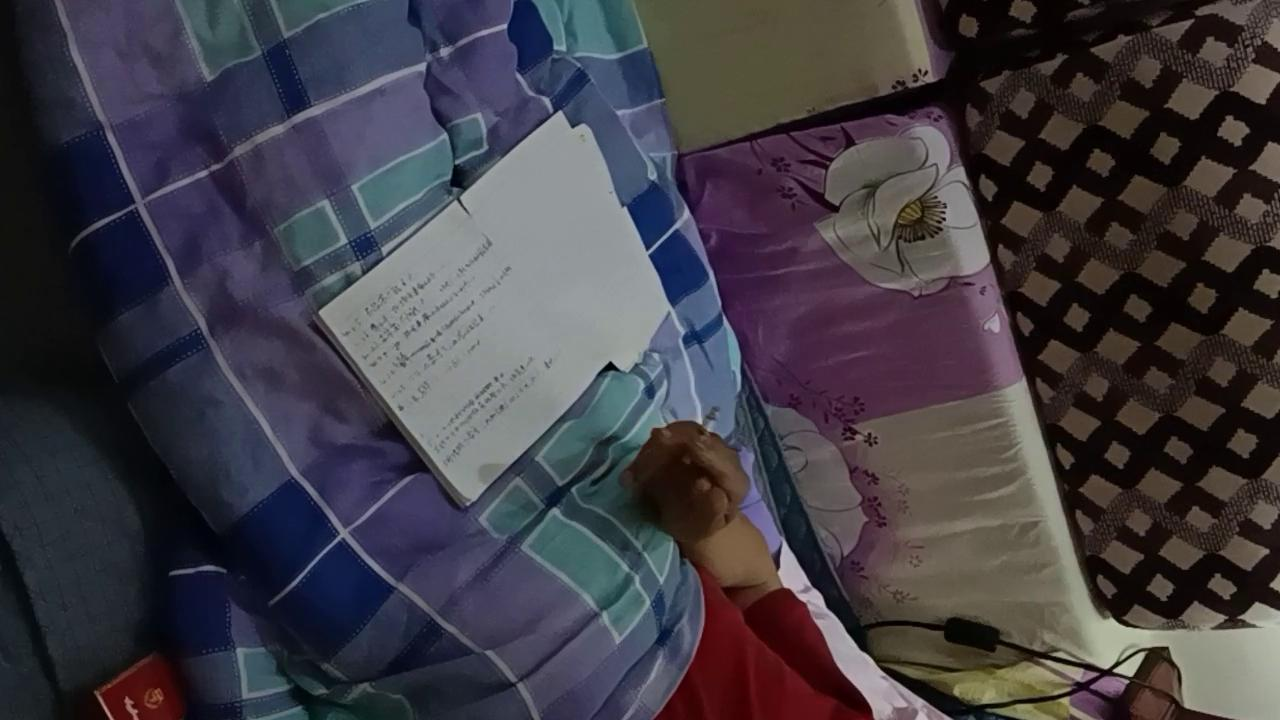smoke: (680, 407, 721, 466)
